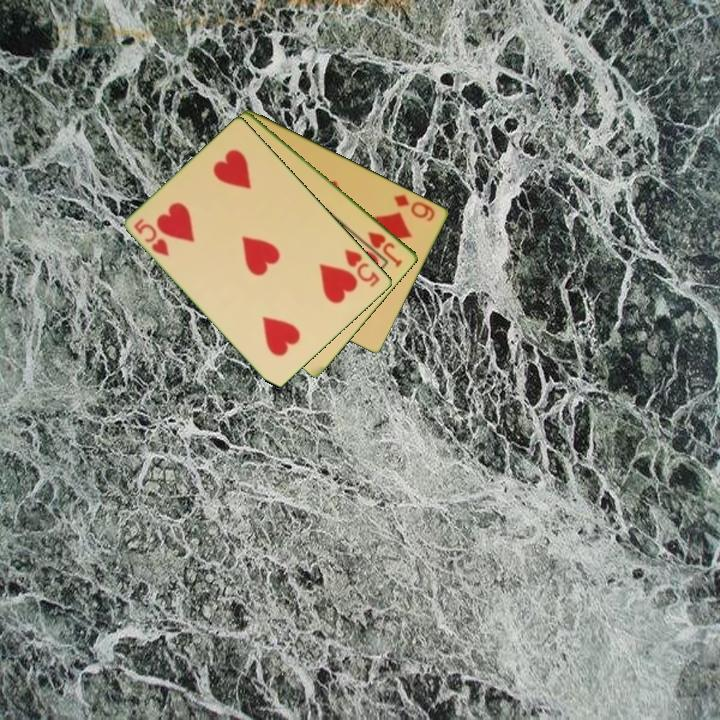5h: (130, 215, 173, 259), (341, 246, 383, 290)
6d: (391, 190, 438, 224)
Jh: (364, 228, 406, 270)
